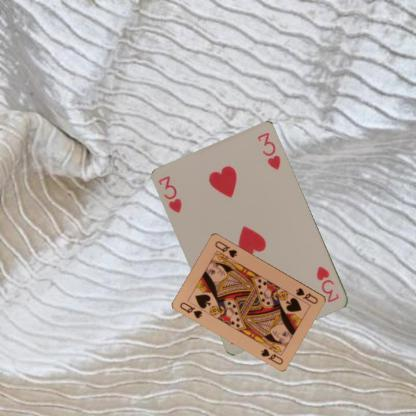3h: (155, 173, 184, 214), (314, 264, 341, 304)
Qs: (177, 300, 204, 320), (294, 285, 320, 305)
